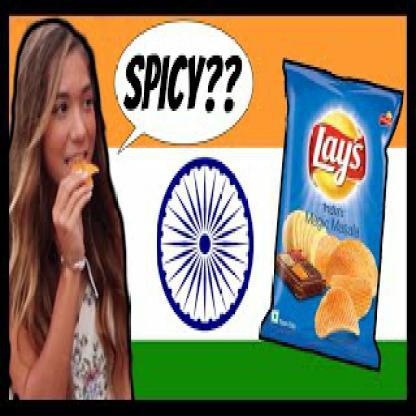indian_magic_masala: (267, 60, 399, 370)
